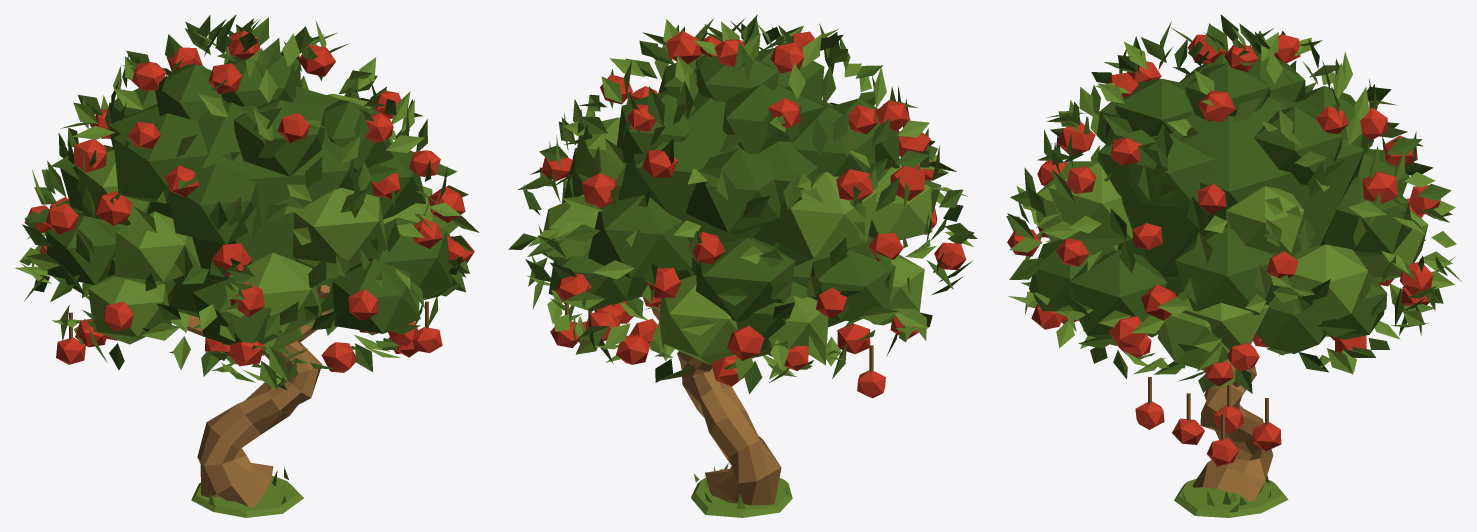
3 renders of one model, left to right at view 1: azimuth 30°, elevation 25°; view 2: azimuth 150°, elevation 25°; view 3: azimuth 270°, elevation 25°, orthographic.
Visible parts, largest first — view 1: crown_dark, leaves_light, crown_light, apples, leaves_dark, trunk, grass; view 2: crown_dark, leaves_light, apples, crown_light, leaves_dark, trunk, grass; view 3: crown_dark, leaves_light, apples, crown_light, leaves_dark, trunk, grass, apple_stems.
Part boxes in pixels (box(x1,y1,x2,y2)): crown_dark: box(46, 50, 452, 344); leaves_light: box(15, 19, 479, 390); crown_light: box(45, 93, 442, 355); apples: box(24, 30, 474, 372); leaves_dark: box(22, 14, 462, 390); trunk: box(172, 285, 332, 507); grass: box(191, 467, 303, 517); crown_dark: box(548, 48, 941, 357); leaves_light: box(518, 18, 977, 382); apples: box(541, 31, 966, 398); crown_light: box(542, 100, 932, 364); leaves_dark: box(508, 14, 974, 393); trunk: box(651, 308, 781, 505); grass: box(691, 463, 792, 517); crown_dark: box(1029, 53, 1412, 353); leaves_light: box(1007, 21, 1462, 392); apples: box(1007, 34, 1440, 466); crown_light: box(1035, 161, 1428, 370); leaves_dark: box(1006, 14, 1451, 393); trunk: box(1192, 365, 1273, 501); grass: box(1174, 475, 1288, 517); apple_stems: box(1148, 377, 1268, 440).
Bounding box in the file's own units: 3.57 × 4.02 × 3.55.
